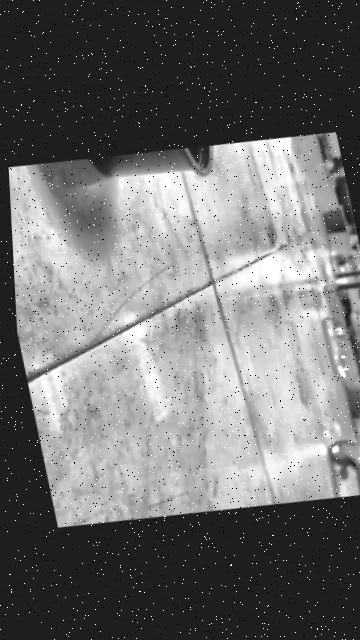pot: (78, 137, 221, 195)
